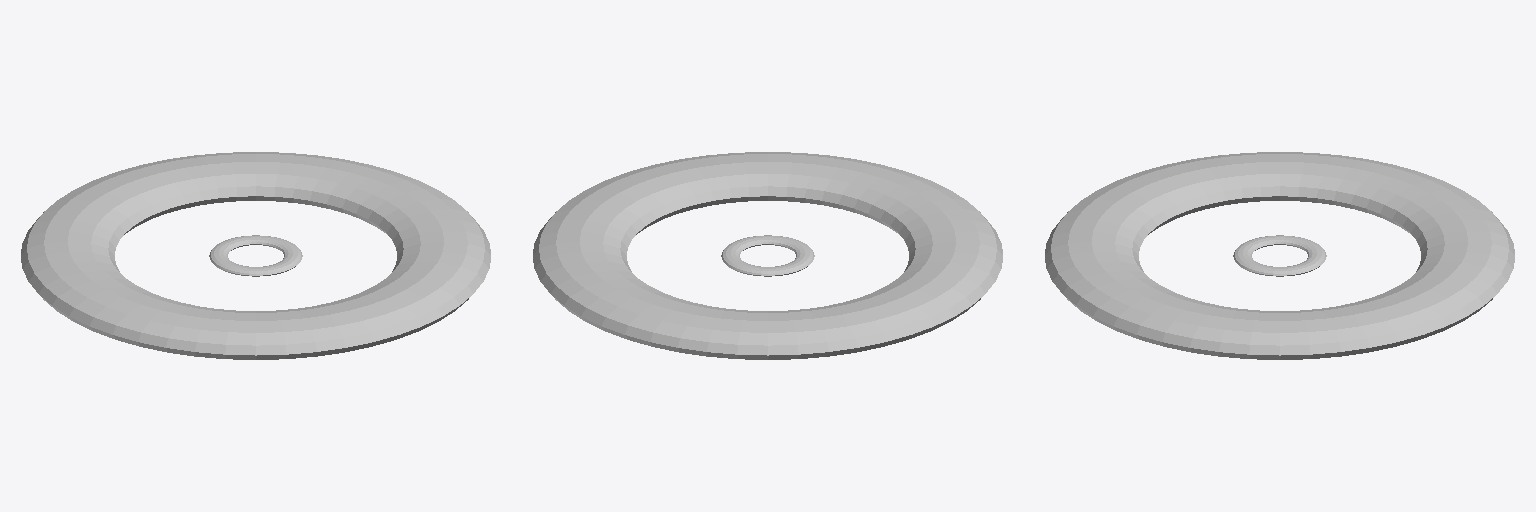
Rendered from reticle.obj.
3 renders of one model, left to right at view 1: azimuth 30°, elevation 25°; view 2: azimuth 150°, elevation 25°; view 3: azimuth 270°, elevation 25°, orthographic.
Visible parts, largest first — view 1: Torus, Torus.001; view 2: Torus, Torus.001; view 3: Torus, Torus.001.
Boxes of the visible parts, x1=… form: Torus: x1=21, y1=152, x2=490, y2=359; Torus.001: x1=209, y1=235, x2=302, y2=276; Torus: x1=533, y1=152, x2=1002, y2=359; Torus.001: x1=721, y1=235, x2=814, y2=276; Torus: x1=1045, y1=152, x2=1514, y2=359; Torus.001: x1=1233, y1=235, x2=1326, y2=276.
Bounding box in the file's own units: 7.04 × 0.4797 × 7.04.